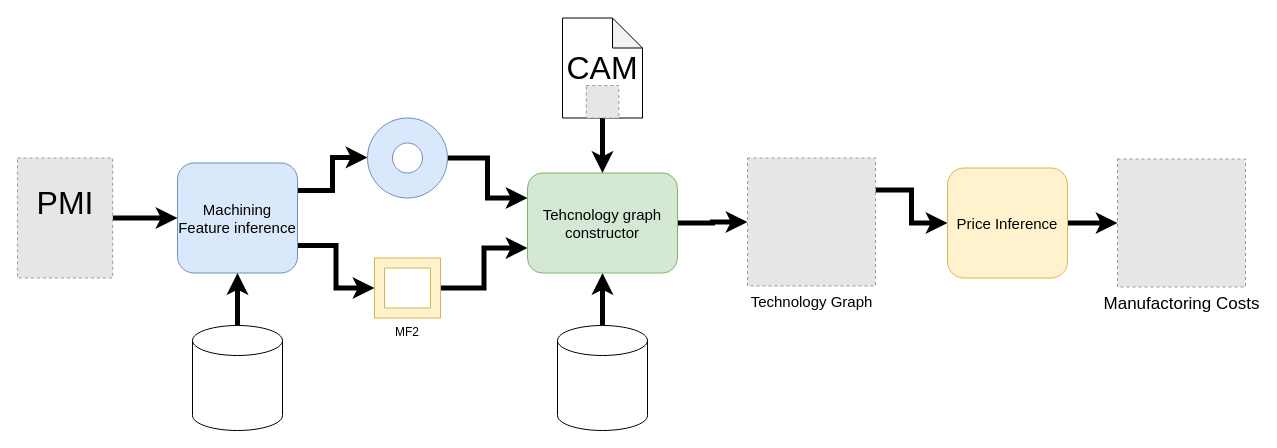
This 1277x448 diagram has some shape labels left out. Grey dashed boxes stand in for pictures. The box of each missing label's shape, as (x1, y1, x2, y2) in pixels:
BREP Graph DB: (192, 324, 282, 430)
MF1: (366, 117, 448, 198)
Technology Graph DB: (556, 324, 648, 430)
